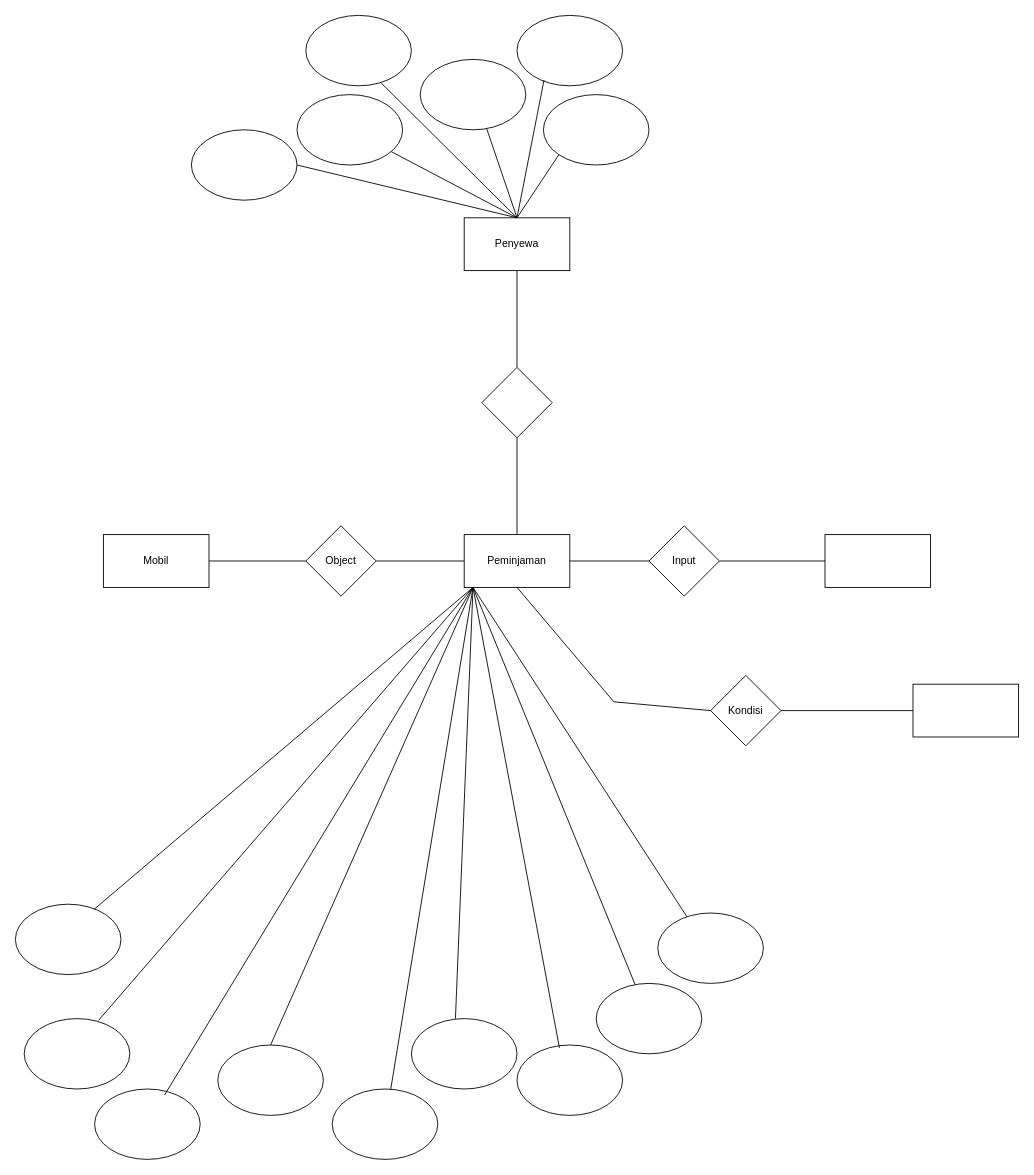
Image size: 1034x1175. Some labels were removed from this diagram. The centre of each missing label's shape, as x and y in pixels:
"Pegawai" belongs at pixel 877 560.
"Pengembalian" belongs at pixel 965 710.
"Transaksi" belongs at pixel 516 402.
